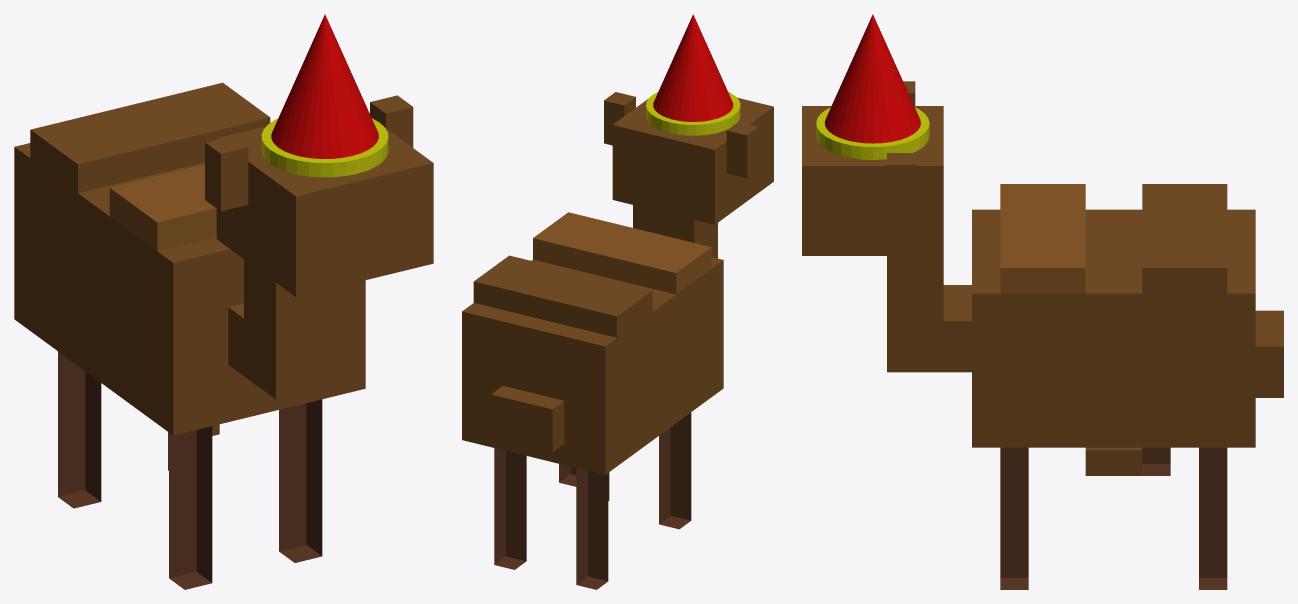
File: CamelRestState.obj
3 views of the same model, side by side, from view 1: azimuth 30°, elevation 25°; view 2: azimuth 150°, elevation 25°; view 3: azimuth 270°, elevation 25° (orthographic). The views are drawn at different scales.
Visible parts, largest first — view 1: Cube.010_Cube.011, Cone, Cube.001_Cube.002, Cube.002_Cube.003, Cube.013_Cube.014, Cylinder; view 2: Cube.010_Cube.011, Cone, Cube.008_Cube.009, Cube.013_Cube.014, Cube.003_Cube.004, Cube.001_Cube.002, Cylinder; view 3: Cube.010_Cube.011, Cone, Cube.002_Cube.003, Cube.003_Cube.004, Cube.008_Cube.009, Cylinder, Cube.
Part boxes in pixels (x1,y1,x2,y2): Cube.010_Cube.011: [14, 82, 433, 435]; Cone: [271, 14, 378, 158]; Cube.001_Cube.002: [169, 426, 212, 589]; Cube.002_Cube.003: [279, 399, 322, 562]; Cube.013_Cube.014: [58, 351, 101, 508]; Cylinder: [261, 118, 388, 177]; Cube.010_Cube.011: [462, 92, 773, 474]; Cone: [653, 14, 733, 121]; Cube.008_Cube.009: [491, 386, 564, 452]; Cube.013_Cube.014: [576, 468, 608, 589]; Cube.003_Cube.004: [494, 448, 526, 569]; Cube.001_Cube.002: [659, 412, 691, 529]; Cylinder: [646, 92, 740, 135]; Cube.010_Cube.011: [802, 81, 1255, 475]; Cone: [824, 14, 920, 143]; Cube.002_Cube.003: [1000, 447, 1028, 589]; Cube.003_Cube.004: [1199, 447, 1227, 589]; Cube.008_Cube.009: [1255, 310, 1283, 397]; Cylinder: [816, 107, 929, 159]; Cube: [1142, 447, 1170, 475].
Size of the model in its own units: 14 by 42.5 by 34.
